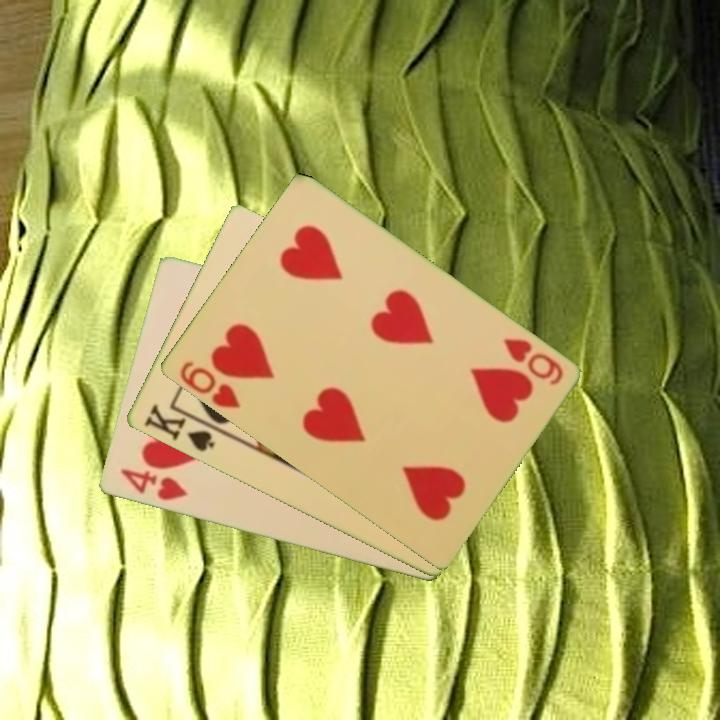4h: (116, 465, 190, 504)
6h: (175, 357, 243, 412), (498, 334, 566, 388)
Ks: (140, 400, 223, 455)
